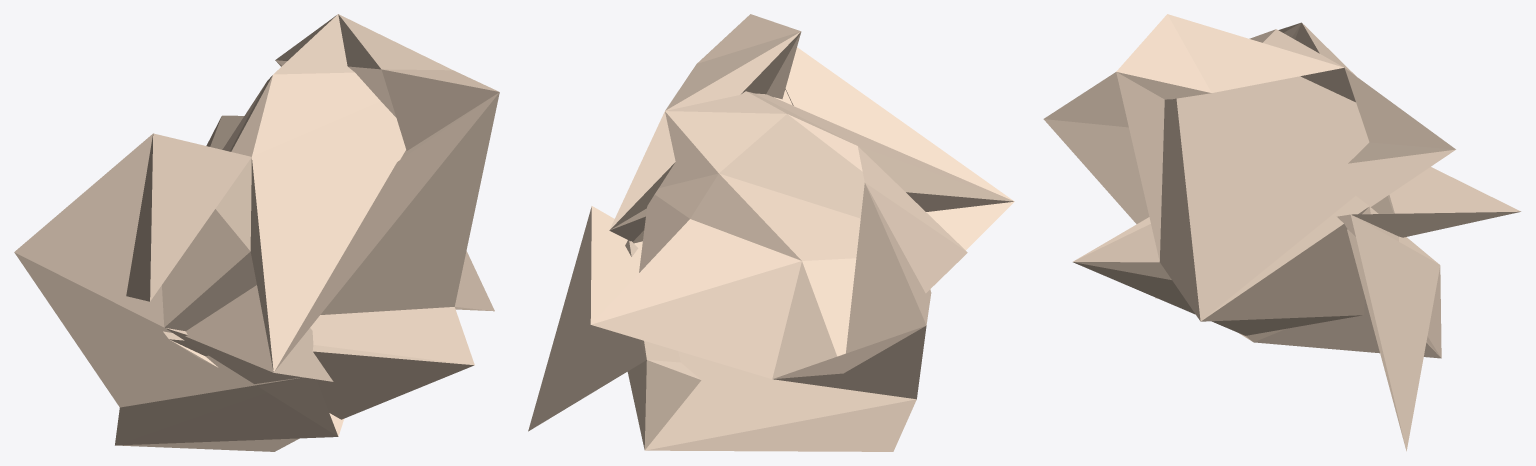
The model's file is PaperClump_03.glb.
3 views of the same model, side by side, from view 1: azimuth 30°, elevation 25°; view 2: azimuth 150°, elevation 25°; view 3: azimuth 270°, elevation 25° (orthographic). The views are drawn at different scales.
Parts seen in each view (by area): view 1: PaperClump_03; view 2: PaperClump_03; view 3: PaperClump_03.
Part boxes in pixels (x1,y1,x2,y2): PaperClump_03: (14, 14, 499, 451); PaperClump_03: (528, 14, 1014, 451); PaperClump_03: (1043, 14, 1520, 451).
Size of the model in its own units: 0.3758 by 0.3371 by 0.4057.
1 material, 1 textured.
